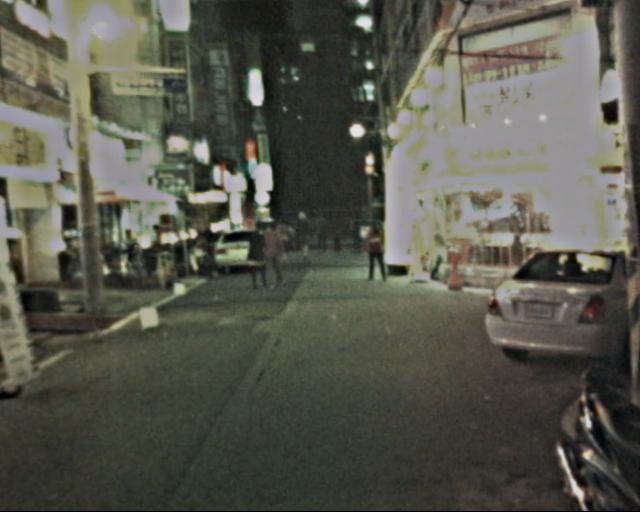person: (245, 226, 275, 295), (257, 223, 286, 293), (362, 224, 390, 286), (330, 222, 362, 255), (292, 212, 312, 261), (312, 213, 328, 253)
